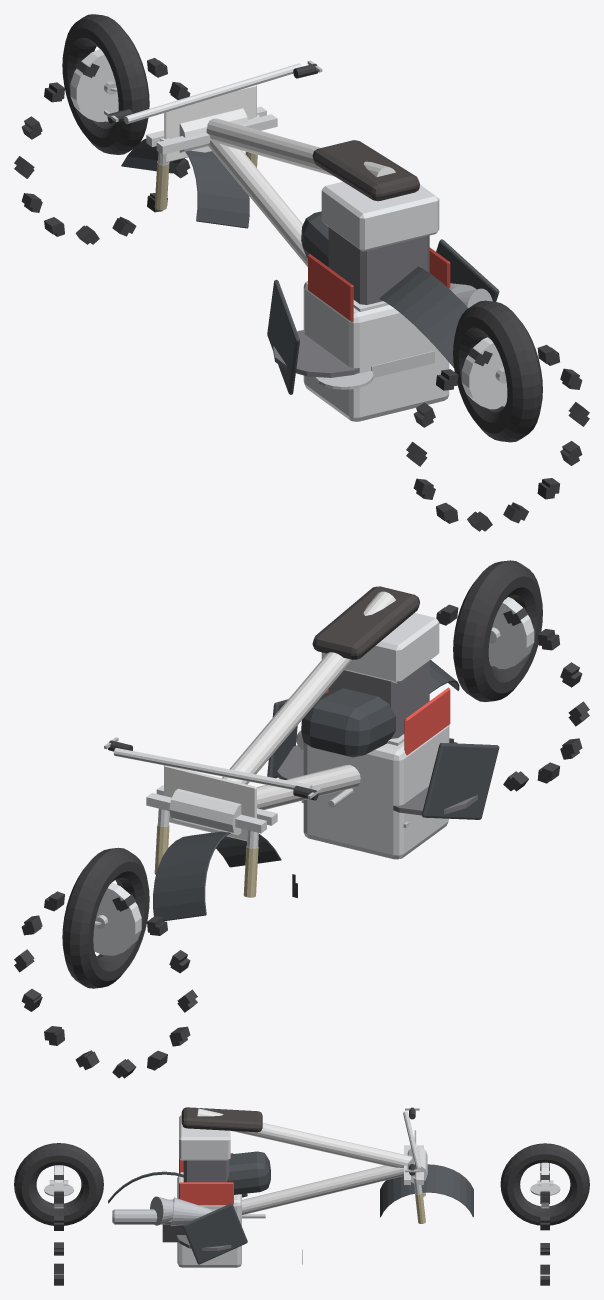
3 renders of one model, top to bottom at view 1: azimuth 30°, elevation 25°; view 2: azimuth 150°, elevation 25°; view 3: azimuth 270°, elevation 25°, orthographic. The views are drawn at different scales.
Visible parts, largest first — view 1: b_engine_case, b_rear_wheel_tire, b_front_wheel_tire, b_engine_head, b_engine_cyl, b_front_fender, b_rear_fender, b_seat, b_frame_down, b_frame_spine, b_front_plate, b_front_wheel_rim (+11 smaller); view 2: b_engine_case, b_rear_wheel_tire, b_front_wheel_tire, b_front_fender, b_tank, b_shroud_-1, b_frame_spine, b_seat, b_engine_head, b_engine_cyl, b_front_plate, b_front_wheel_rim (+8 smaller); view 3: b_rear_wheel_tire, b_front_wheel_tire, b_frame_spine, b_frame_down, b_shroud_1, b_front_fender, b_engine_head, b_seat, b_tank, b_engine_case, b_sideplate_1, b_engine_cyl (+11 smaller).
Boxes of the visible parts, left/top/right/bottom form: b_engine_case: left=303, top=281, right=449, bottom=421; b_rear_wheel_tire: left=453, top=300, right=542, bottom=442; b_front_wheel_tire: left=62, top=14, right=149, bottom=154; b_engine_head: left=321, top=181, right=439, bottom=251; b_engine_cyl: left=328, top=227, right=429, bottom=304; b_front_fender: left=121, top=138, right=249, bottom=228; b_rear_fender: left=379, top=266, right=468, bottom=367; b_seat: left=312, top=140, right=419, bottom=201; b_frame_down: left=207, top=139, right=307, bottom=266; b_frame_spine: left=206, top=118, right=395, bottom=176; b_front_plate: left=164, top=85, right=256, bottom=162; b_front_wheel_rim: left=70, top=49, right=118, bottom=121; b_engine_case: left=303, top=725, right=449, bottom=859; b_rear_wheel_tire: left=453, top=560, right=542, bottom=701; b_front_wheel_tire: left=62, top=847, right=149, bottom=988; b_front_fender: left=153, top=831, right=281, bottom=921; b_tank: left=301, top=688, right=395, bottom=757; b_shroud_-1: left=422, top=743, right=499, bottom=819; b_frame_spine: left=222, top=591, right=395, bottom=784; b_seat: left=312, top=586, right=419, bottom=659; b_engine_head: left=321, top=613, right=439, bottom=683; b_engine_cyl: left=328, top=661, right=429, bottom=738; b_front_plate: left=164, top=765, right=256, bottom=841; b_front_wheel_rim: left=93, top=882, right=141, bottom=955; b_rear_wheel_tire: left=14, top=1143, right=103, bottom=1225; b_front_wheel_tire: left=500, top=1143, right=589, bottom=1225; b_frame_spine: left=197, top=1108, right=412, bottom=1167; b_frame_down: left=242, top=1165, right=403, bottom=1214; b_shroud_1: left=182, top=1203, right=247, bottom=1264; b_front_fender: left=380, top=1164, right=473, bottom=1217; b_engine_head: left=179, top=1115, right=230, bottom=1160; b_seat: left=181, top=1107, right=262, bottom=1132; b_tank: left=227, top=1151, right=270, bottom=1194; b_engine_case: left=177, top=1176, right=241, bottom=1267; b_sideplate_1: left=179, top=1182, right=233, bottom=1205; b_engine_cyl: left=183, top=1160, right=229, bottom=1182.
Size of the model in its own units: 0.912 by 1.16 by 3.55.
